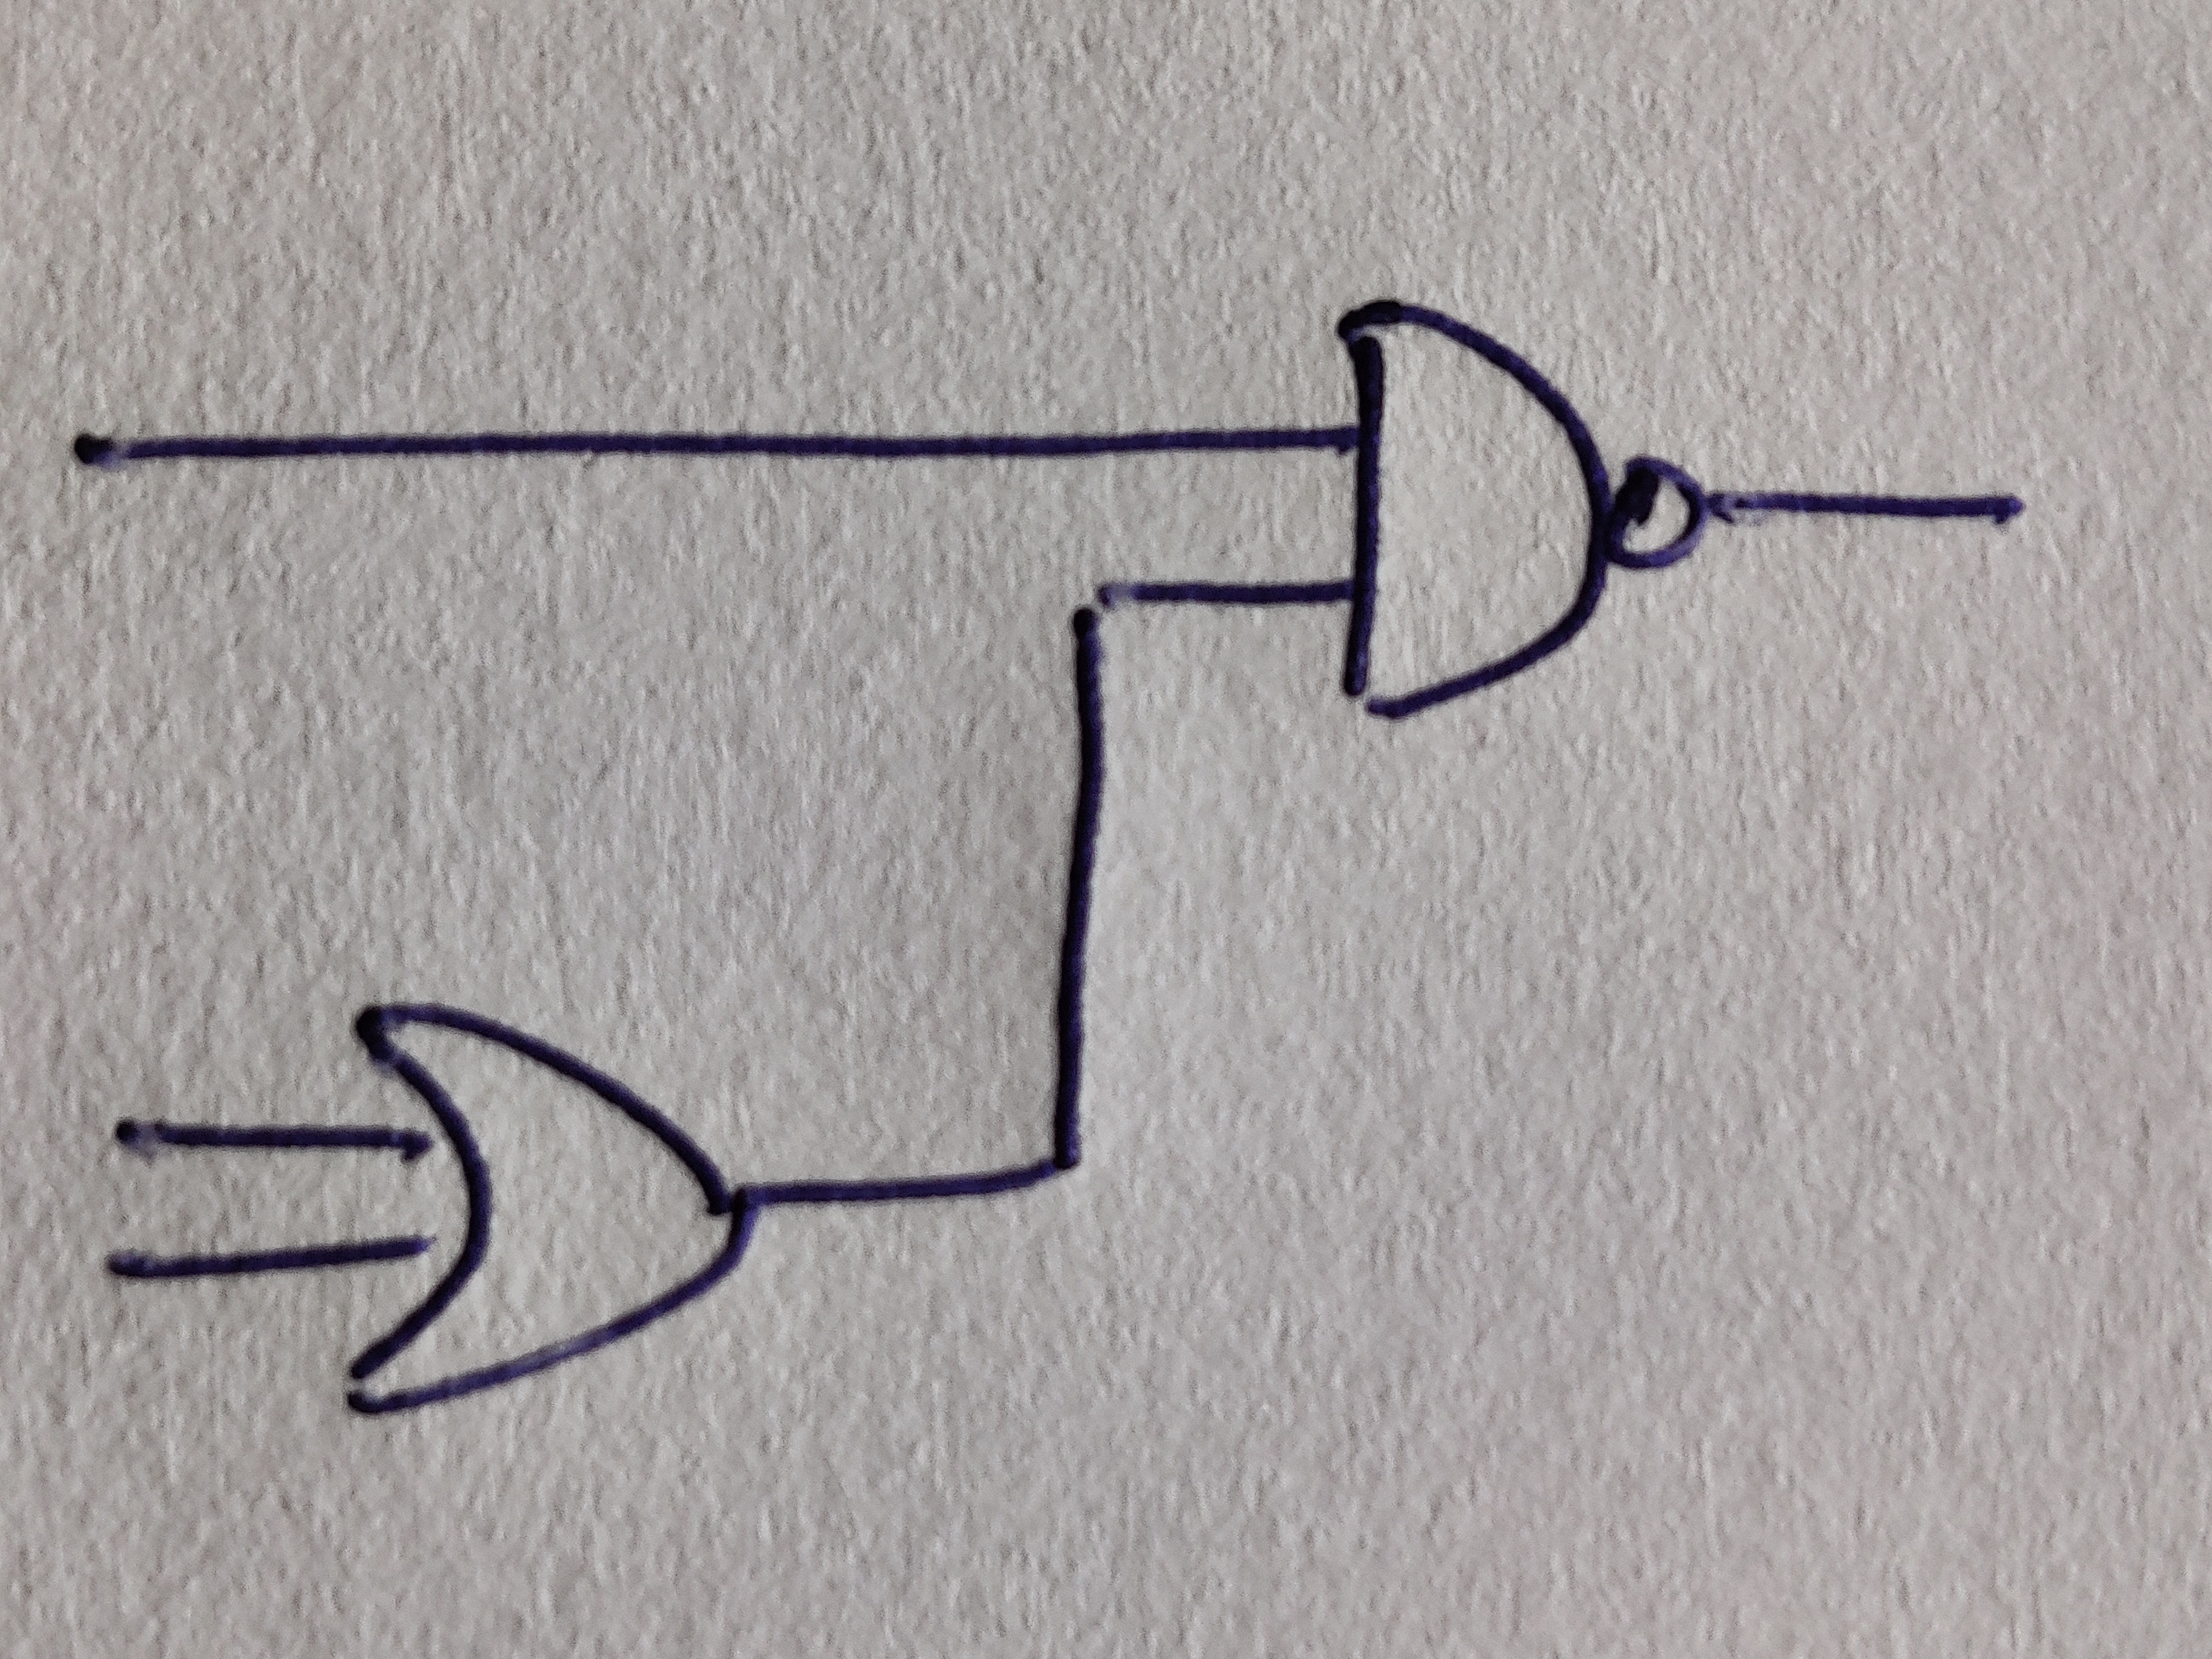and: (1338, 301, 1613, 721)
not: (1613, 458, 1707, 572)
or: (347, 1000, 759, 1415)
